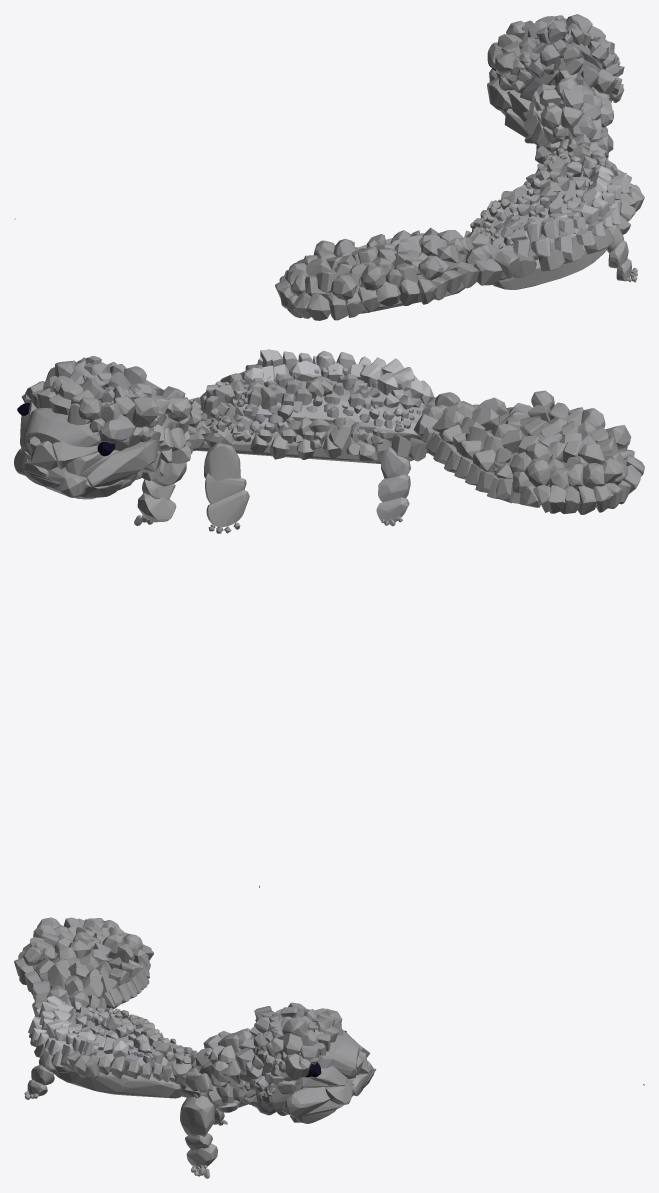
The picture shows the model from 3 angles, top to bottom: view 1: azimuth 30°, elevation 25°; view 2: azimuth 150°, elevation 25°; view 3: azimuth 270°, elevation 25°; orthographic projection. The views are drawn at different scales.
Visible parts, largest first — view 1: brush_MatteHull_g0_b1_4, brush_MatteHull_g0_b0_3, brush_MatteHull_g0_b2_5; view 2: brush_MatteHull_g0_b1_4, brush_MatteHull_g0_b0_3, brush_MatteHull_g0_b2_5; view 3: brush_MatteHull_g0_b1_4, brush_MatteHull_g0_b0_3, brush_MatteHull_g0_b2_5.
Boxes of the visible parts, bbox=[...] form: brush_MatteHull_g0_b1_4: bbox=[275, 49, 637, 320]; brush_MatteHull_g0_b0_3: bbox=[464, 21, 644, 280]; brush_MatteHull_g0_b2_5: bbox=[331, 14, 614, 304]; brush_MatteHull_g0_b1_4: bbox=[14, 349, 644, 526]; brush_MatteHull_g0_b0_3: bbox=[69, 356, 436, 533]; brush_MatteHull_g0_b2_5: bbox=[19, 360, 631, 499]; brush_MatteHull_g0_b1_4: bbox=[18, 917, 376, 1104]; brush_MatteHull_g0_b0_3: bbox=[29, 1001, 317, 1178]; brush_MatteHull_g0_b2_5: bbox=[14, 917, 373, 1123].
Bounding box in the file's own units: 1.92 × 1.06 × 2.63.
2 materials, 1 textured.
